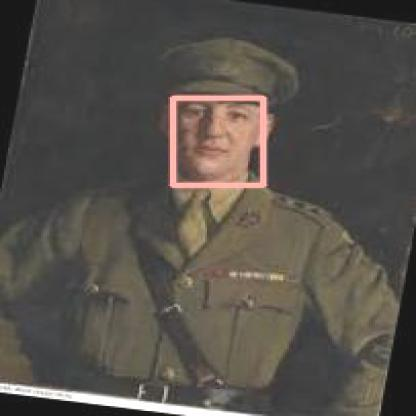without_mask: (172, 98, 262, 185)
